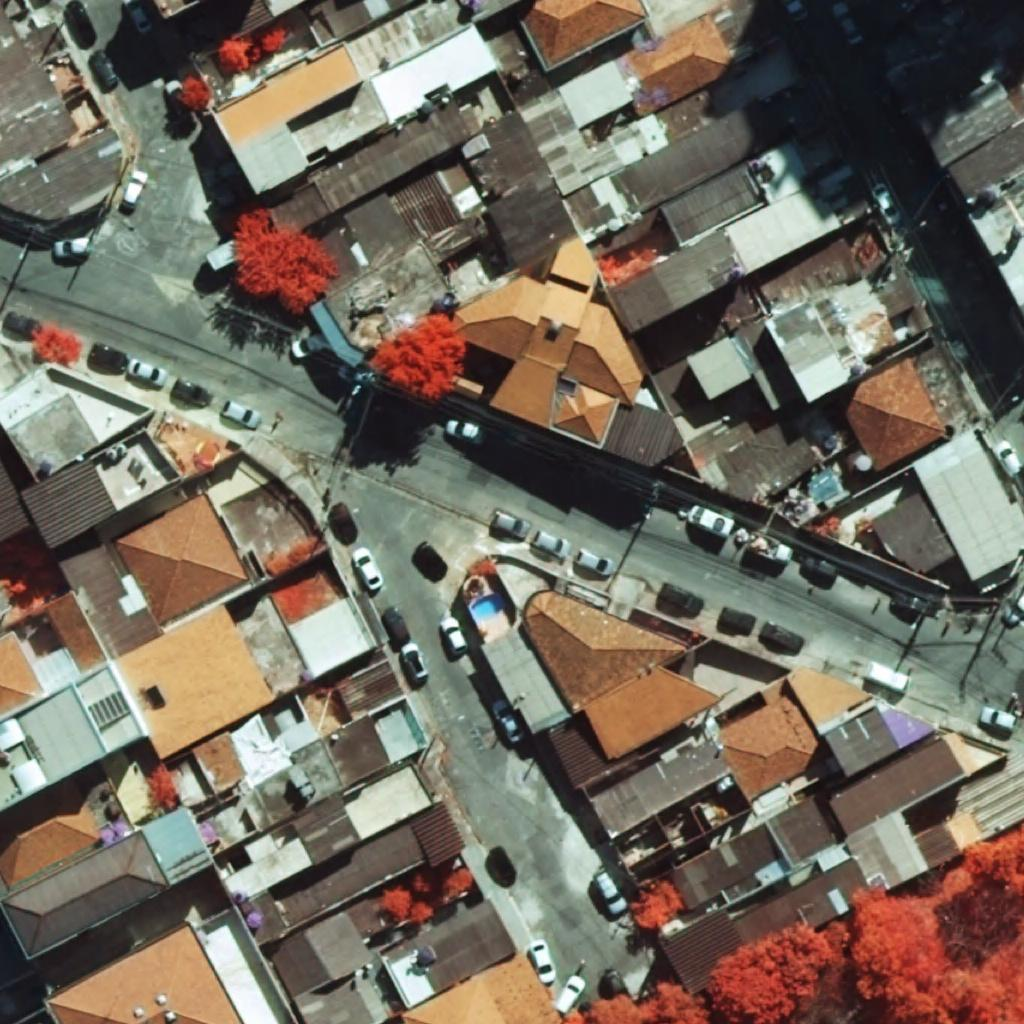pool: (471, 593, 506, 621)
